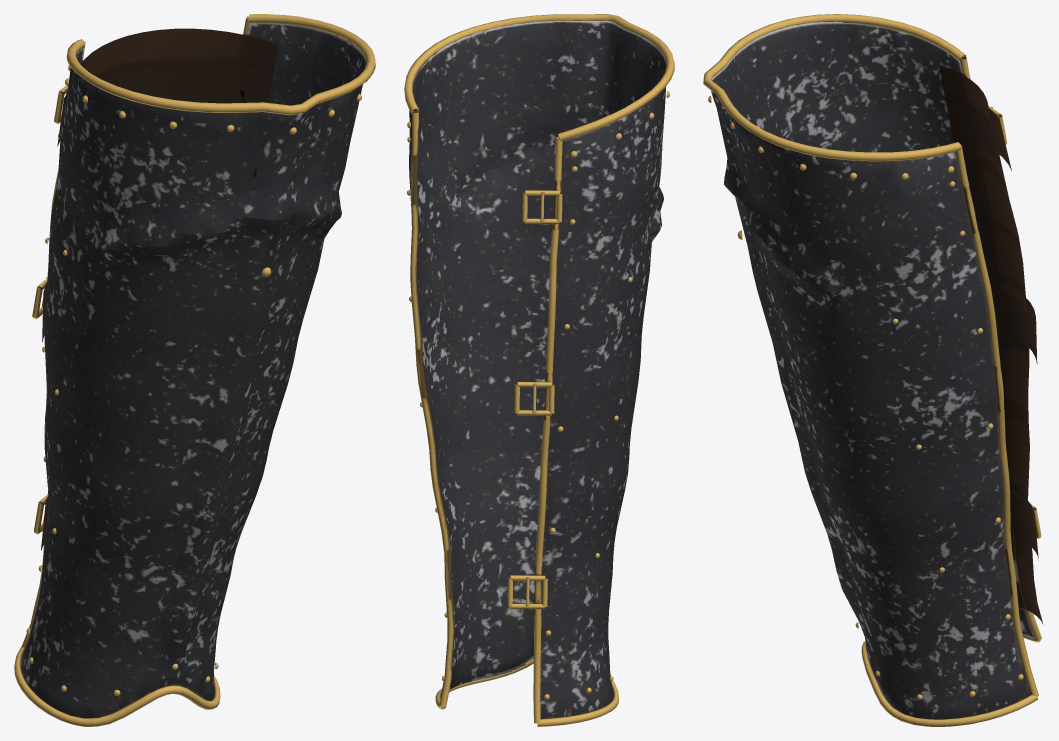
File: SM_EagleGreaves_R_LOD1.fbx
3 renders of one model, left to right at view 1: azimuth 30°, elevation 25°; view 2: azimuth 150°, elevation 25°; view 3: azimuth 270°, elevation 25°, orthographic. The views are drawn at different scales.
Visible parts, largest first — view 1: SM_EagleGreaves_R_LOD1; view 2: SM_EagleGreaves_R_LOD1; view 3: SM_EagleGreaves_R_LOD1.
Part boxes in pixels (<box>): SM_EagleGreaves_R_LOD1: <box>14,14,375,726</box>; SM_EagleGreaves_R_LOD1: <box>404,14,674,726</box>; SM_EagleGreaves_R_LOD1: <box>703,14,1043,726</box>.
Size of the model in its own units: 0.1609 by 0.3963 by 0.1913.
